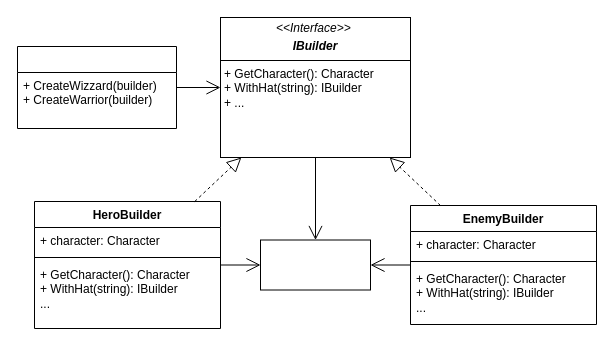
This 614x349 diagram has some shape labels left out. Each missing label, with the box of its shape:
Character: (260, 239, 370, 290)
Director: (16, 46, 176, 128)
